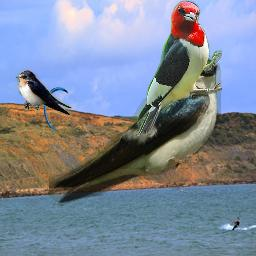Swallow: (49, 55, 221, 206), (15, 69, 72, 117)
Woodpecker: (133, 0, 222, 136)
